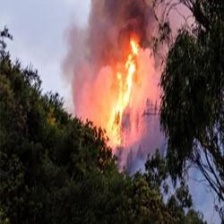fire: (104, 29, 152, 171)
smoke: (81, 1, 161, 26)
